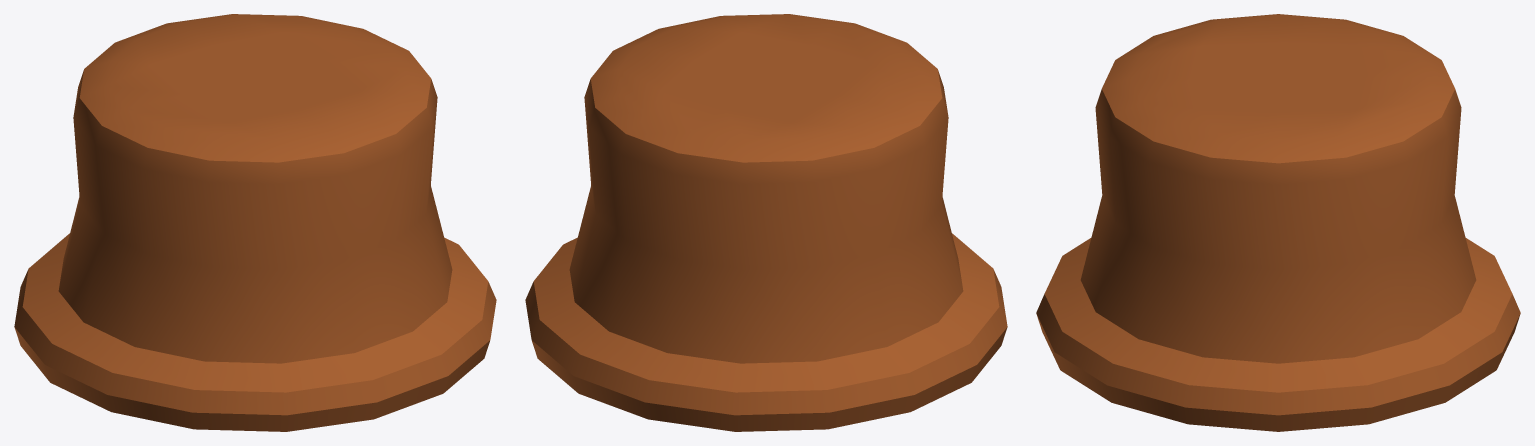
Rendered from hat.fbx.
3 renders of one model, left to right at view 1: azimuth 30°, elevation 25°; view 2: azimuth 150°, elevation 25°; view 3: azimuth 270°, elevation 25°, orthographic.
Visible parts, largest first — view 1: Cylinder.003; view 2: Cylinder.003; view 3: Cylinder.003.
Part boxes in pixels (x1=…): Cylinder.003: x1=14, y1=14, x2=496, y2=431; Cylinder.003: x1=525, y1=14, x2=1007, y2=431; Cylinder.003: x1=1036, y1=14, x2=1520, y2=431.
Bounding box in the file's own units: 249 × 144 × 249.
